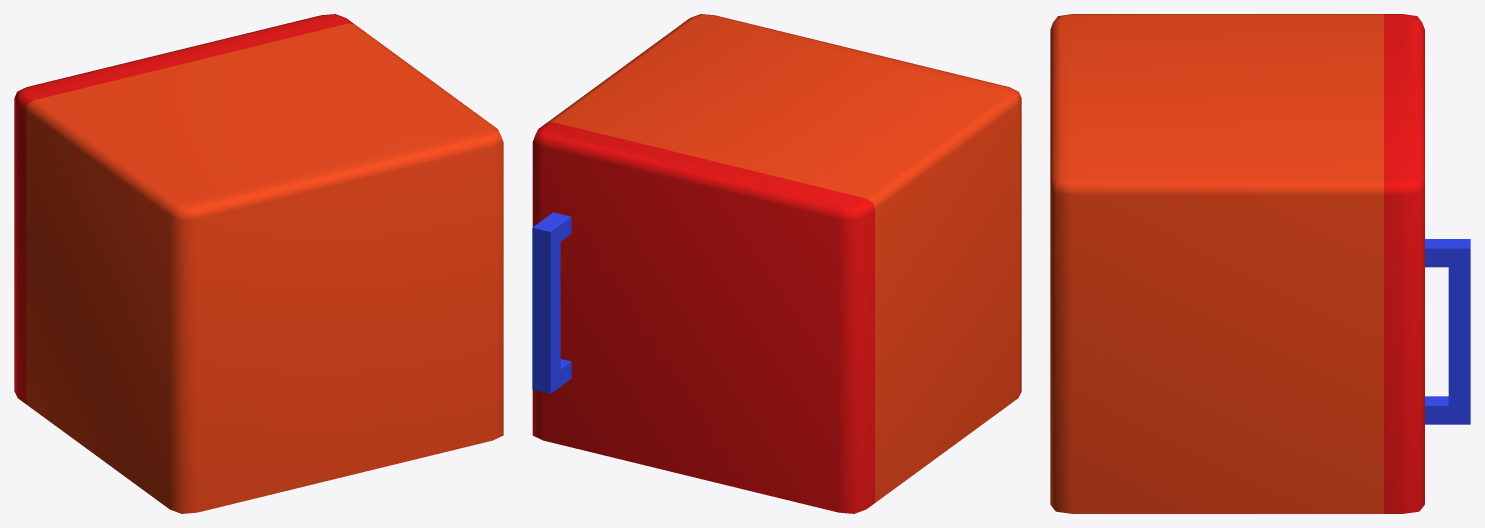
File: tu lanh mini.FBX
3 views of the same model, side by side, from view 1: azimuth 30°, elevation 25°; view 2: azimuth 150°, elevation 25°; view 3: azimuth 270°, elevation 25° (orthographic). The views are drawn at different scales.
Parts seen in each view (by area): view 1: Object243; view 2: Object243; view 3: Object243.
Boxes of the visible parts, bbox=[...] form: Object243: bbox=[14, 14, 503, 513]; Object243: bbox=[532, 14, 1021, 513]; Object243: bbox=[1050, 14, 1470, 513].
Size of the model in its own units: 1.47 by 1.29 by 1.49.
